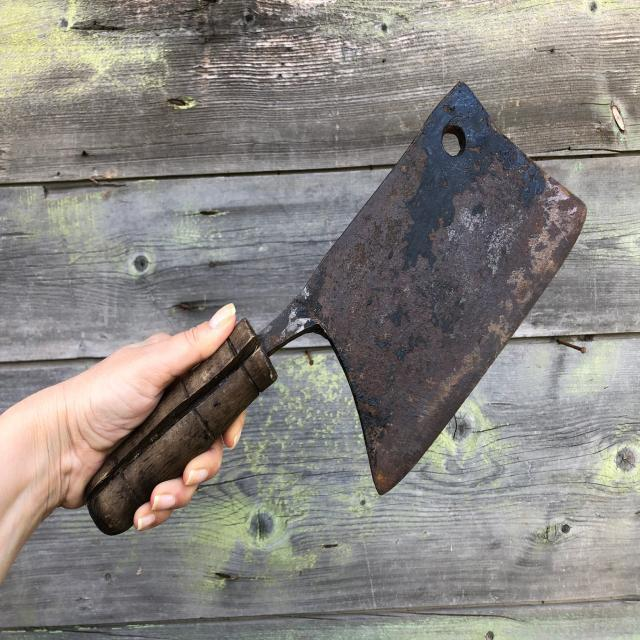cleaver: (49, 76, 584, 537)
